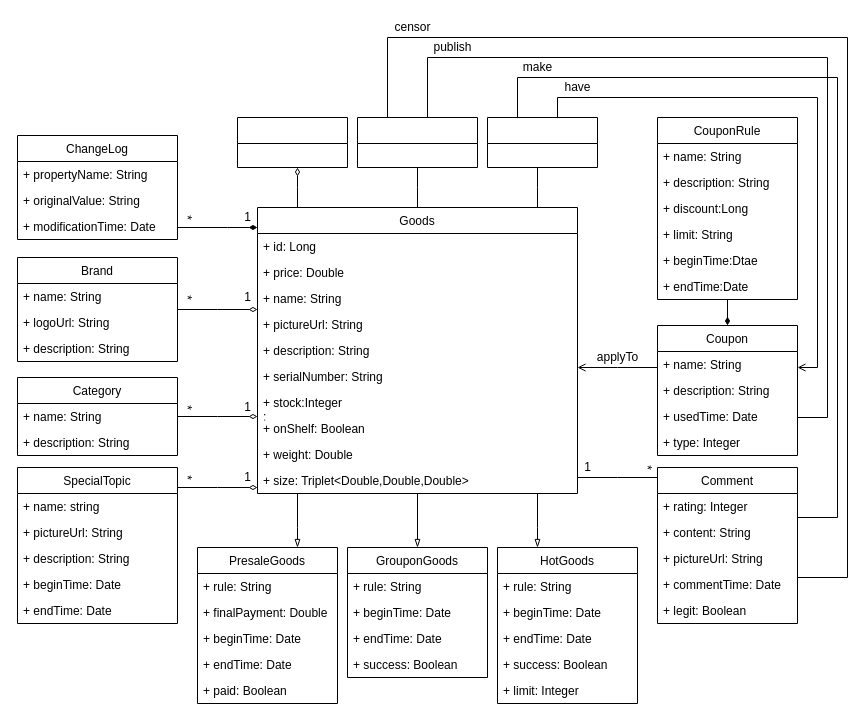
Some shapes in this 866 by 723 pixel diagram are drawn without their labels. The centre of each missing label's shape, as x and y in pixels:
Administrator: [417,142]
Customer: [542,142]
Order: [292,142]
